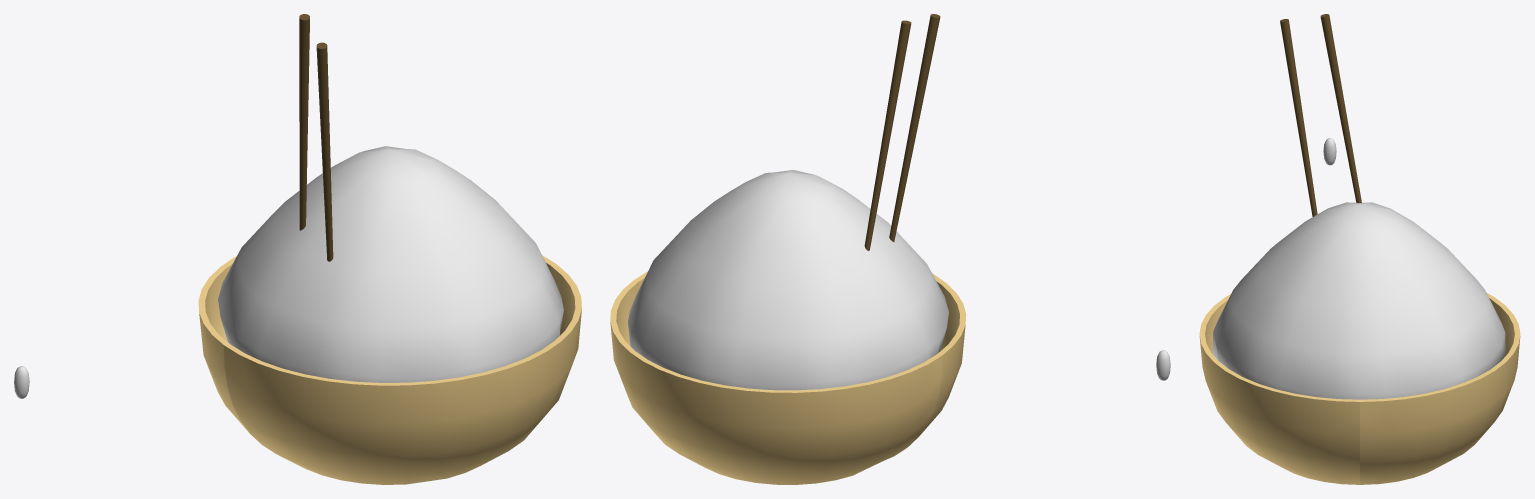
File: Bowl of Rice.fbx
3 renders of one model, left to right at view 1: azimuth 30°, elevation 25°; view 2: azimuth 150°, elevation 25°; view 3: azimuth 270°, elevation 25°, orthographic. The views are drawn at different scales.
Parts seen in each view (by area): view 1: Inner Rice shape, Bowl_for_cms611_Rice, Cylinder.001, Cylinder; view 2: Inner Rice shape, Bowl_for_cms611_Rice, Cylinder.001, Cylinder; view 3: Inner Rice shape, Bowl_for_cms611_Rice, Cylinder, Cylinder.001.
Boxes of the visible parts, x1,y1,x2,y2 form: Inner Rice shape: (218, 146, 563, 382); Bowl_for_cms611_Rice: (198, 255, 581, 484); Cylinder.001: (299, 14, 309, 230); Cylinder: (316, 42, 333, 261); Inner Rice shape: (628, 170, 948, 390); Bowl_for_cms611_Rice: (610, 271, 966, 484); Cylinder.001: (864, 20, 911, 250); Cylinder: (889, 14, 940, 241); Inner Rice shape: (1212, 202, 1505, 399); Bowl_for_cms611_Rice: (1199, 293, 1520, 484); Cylinder: (1280, 19, 1317, 216); Cylinder.001: (1320, 14, 1361, 202).
Bounding box in the file's own units: 825 × 651 × 490.
